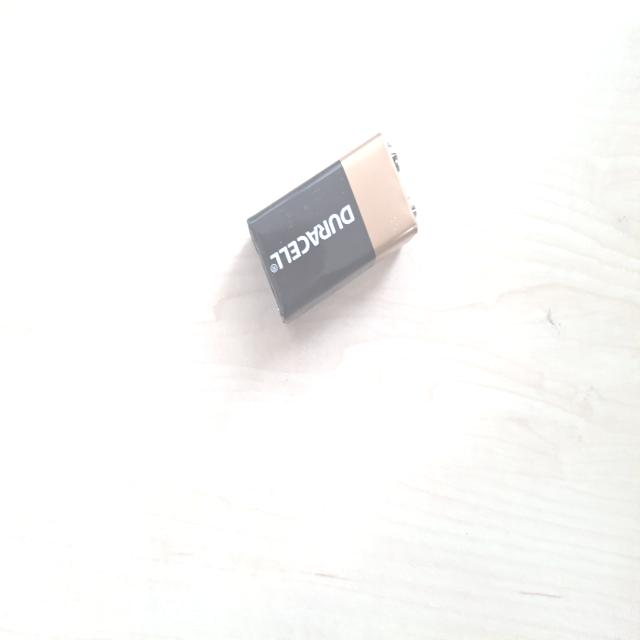9V: (99, 296, 245, 524)
